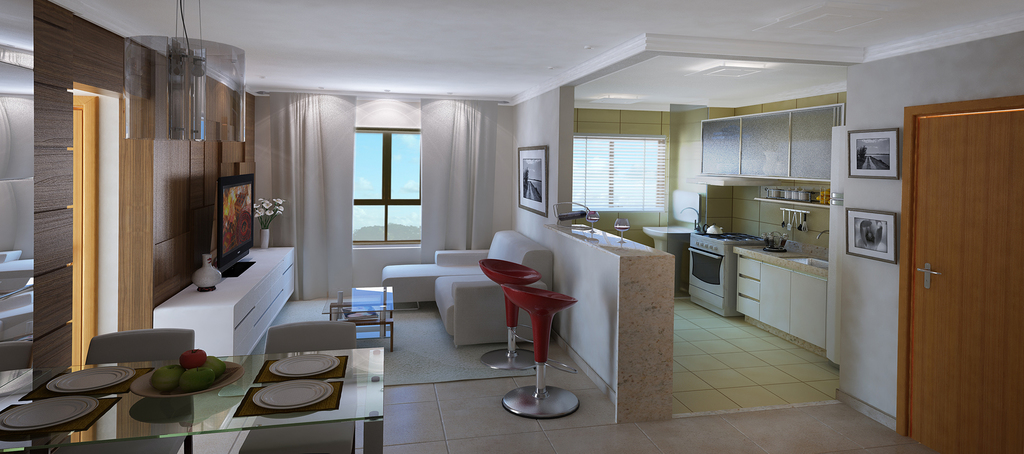cabinet door: (786, 276, 826, 347), (758, 264, 790, 328), (738, 275, 761, 293), (734, 296, 758, 313), (738, 258, 761, 271)
door: (922, 117, 1024, 450)
handle: (915, 264, 943, 279)
